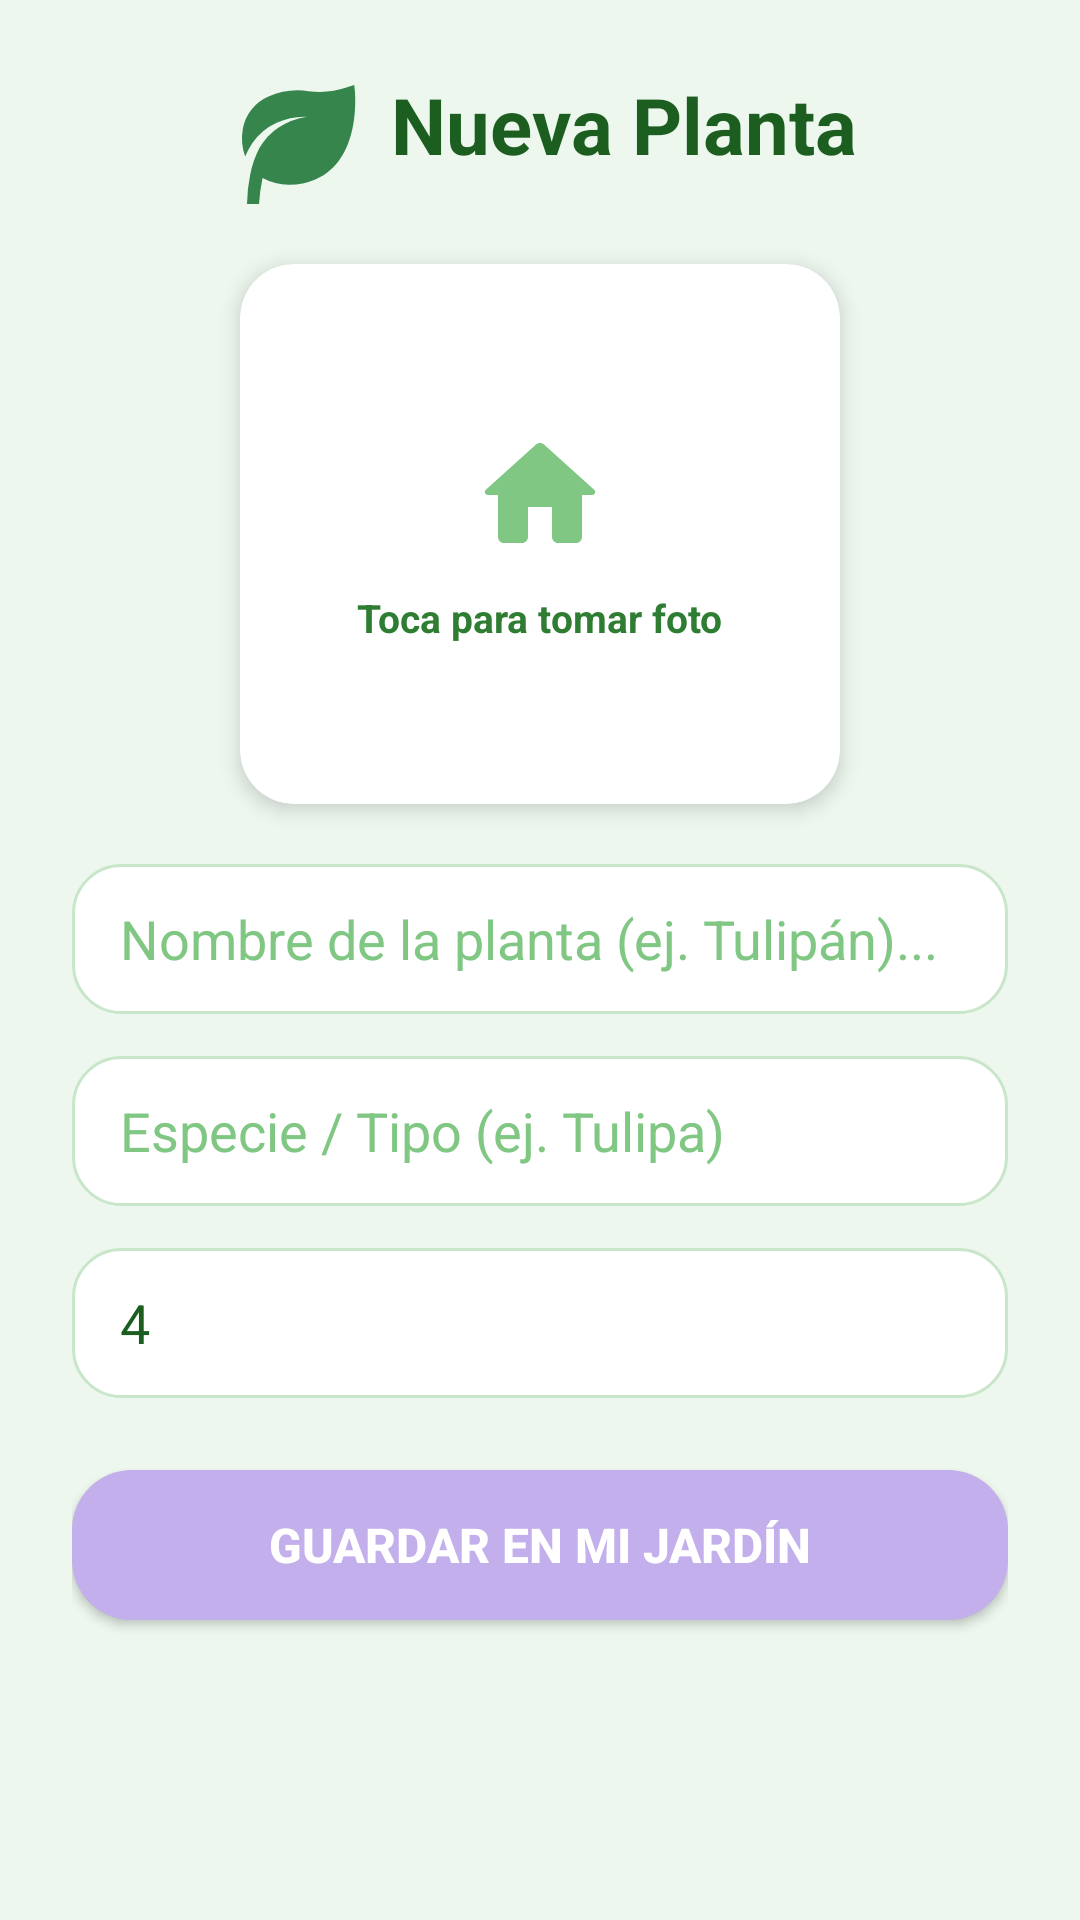

Icons on this 1080 × 1920 Android screen, each with the point to tap as (x,y):
inicio: (540,493)
